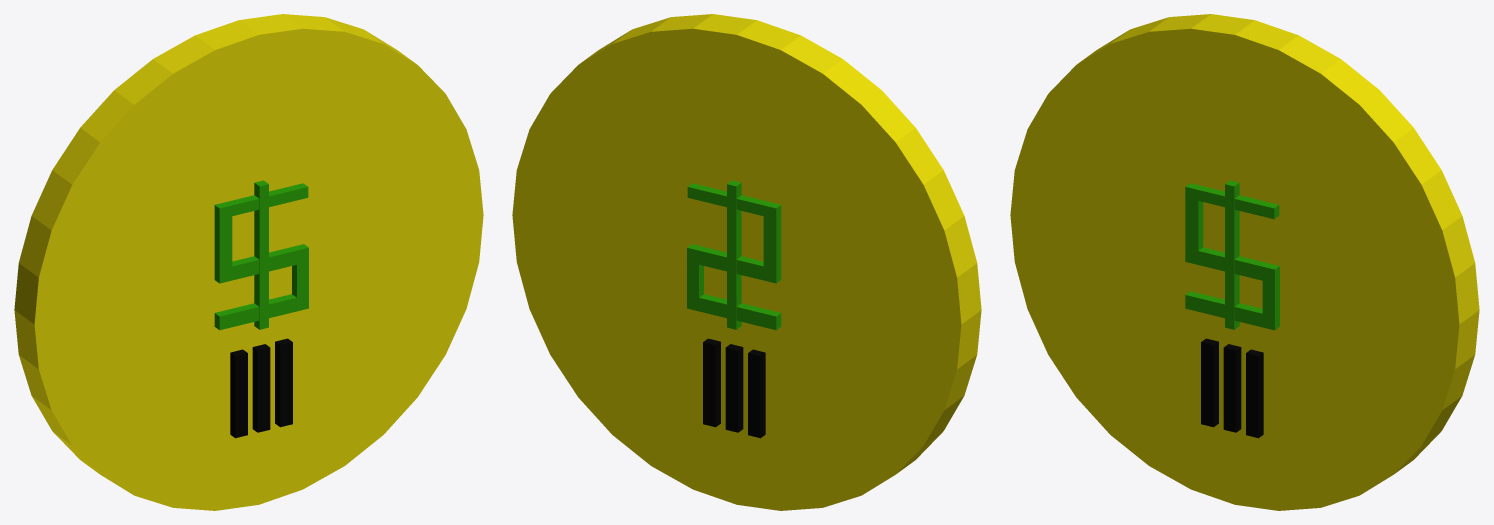
The model's file is GoldRoom3.fbx.
The picture shows the model from 3 angles, left to right: view 1: azimuth 30°, elevation 25°; view 2: azimuth 150°, elevation 25°; view 3: azimuth 330°, elevation 25°; orthographic projection.
Visible parts, largest first — view 1: Cylinder, Cube.001, Cube, Cube.002; view 2: Cylinder, Cube.001, Cube, Cube.002; view 3: Cylinder, Cube.001, Cube.002, Cube.
Part boxes in pixels (left/top/right/bottom): Cylinder: left=14, top=14, right=483, bottom=510; Cube.001: left=252, top=344, right=270, bottom=432; Cube: left=230, top=349, right=247, bottom=438; Cube.002: left=275, top=338, right=292, bottom=427; Cylinder: left=512, top=14, right=981, bottom=510; Cube.001: left=725, top=344, right=743, bottom=432; Cube: left=748, top=349, right=765, bottom=438; Cube.002: left=703, top=338, right=720, bottom=427; Cylinder: left=1010, top=14, right=1479, bottom=510; Cube.001: left=1223, top=344, right=1241, bottom=432; Cube.002: left=1246, top=349, right=1263, bottom=438; Cube: left=1201, top=338, right=1218, bottom=427.
Size of the model in its own units: 200 by 200 by 23.55.
